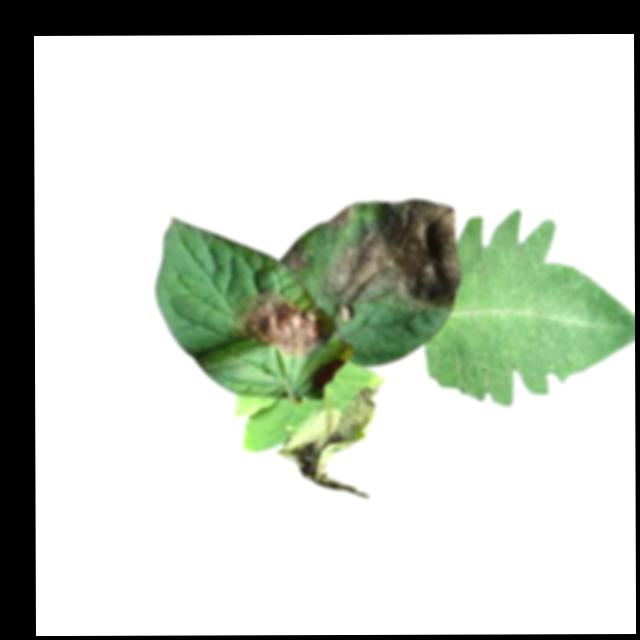Late_blight: (317, 196, 461, 313), (274, 384, 379, 498), (238, 295, 325, 356), (320, 204, 354, 229), (283, 244, 311, 273), (335, 303, 356, 322)
healthy: (418, 210, 634, 408)
